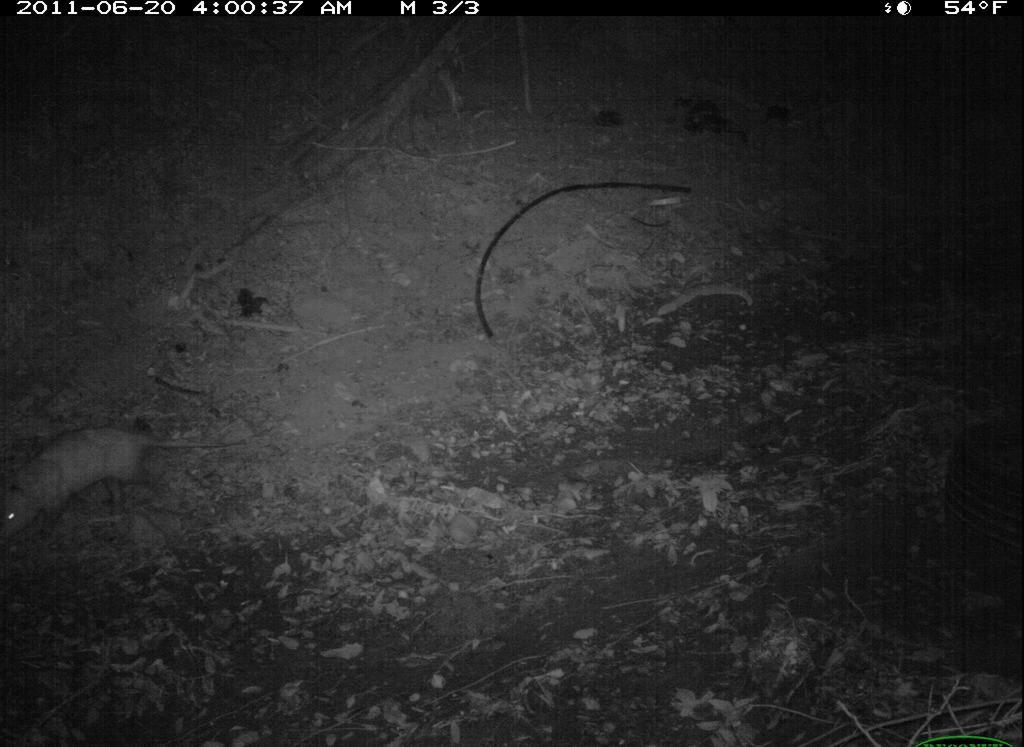opossum: (3, 417, 277, 557)
